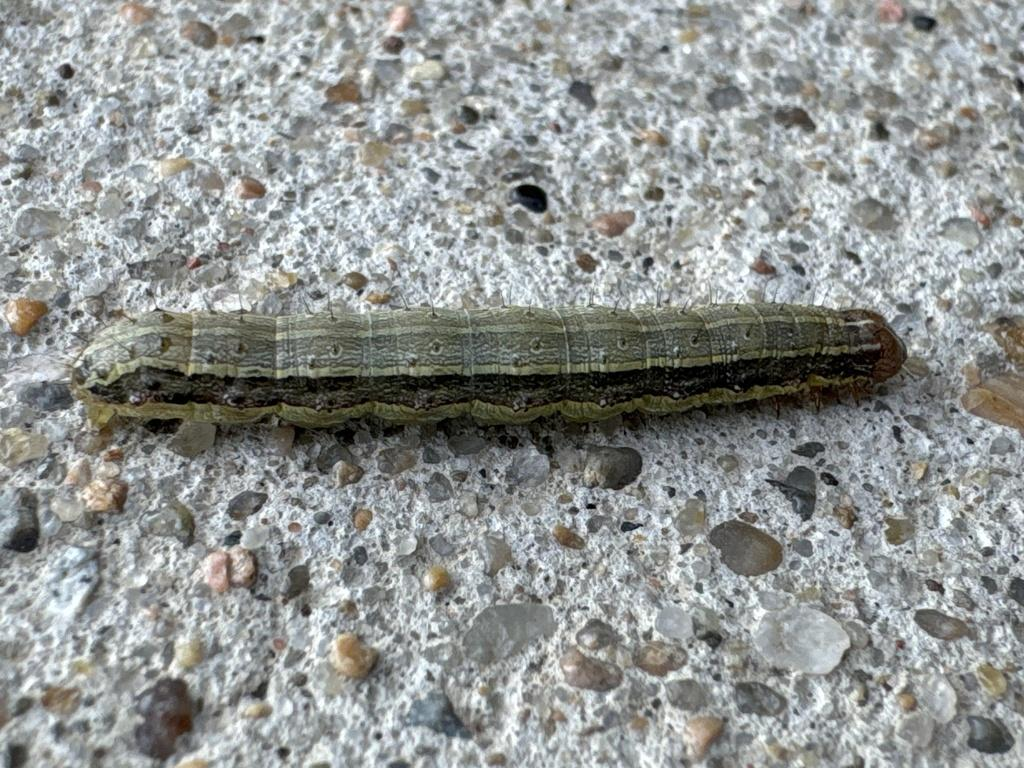caterpillars: (0, 199, 981, 570)
